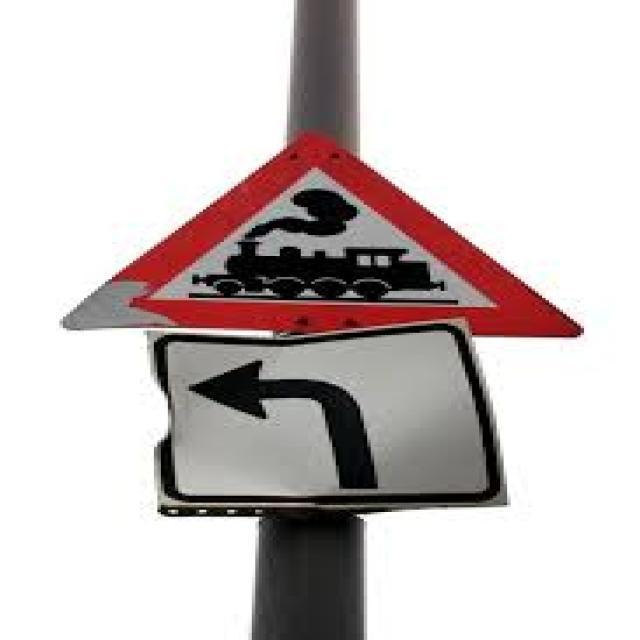unguarded level crossing: (60, 121, 585, 345)
